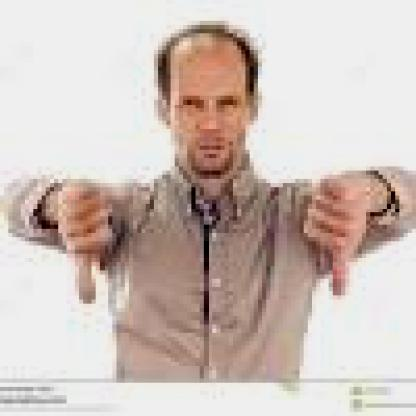Thumbs Down: (58, 174, 112, 304)
